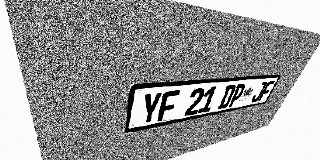1: (197, 86, 219, 113)
2: (184, 87, 206, 116)
D: (217, 84, 237, 110)
F: (157, 90, 180, 122), (257, 80, 275, 101)
J: (250, 81, 268, 103)
P: (227, 83, 247, 107)
Y: (139, 92, 163, 125)
